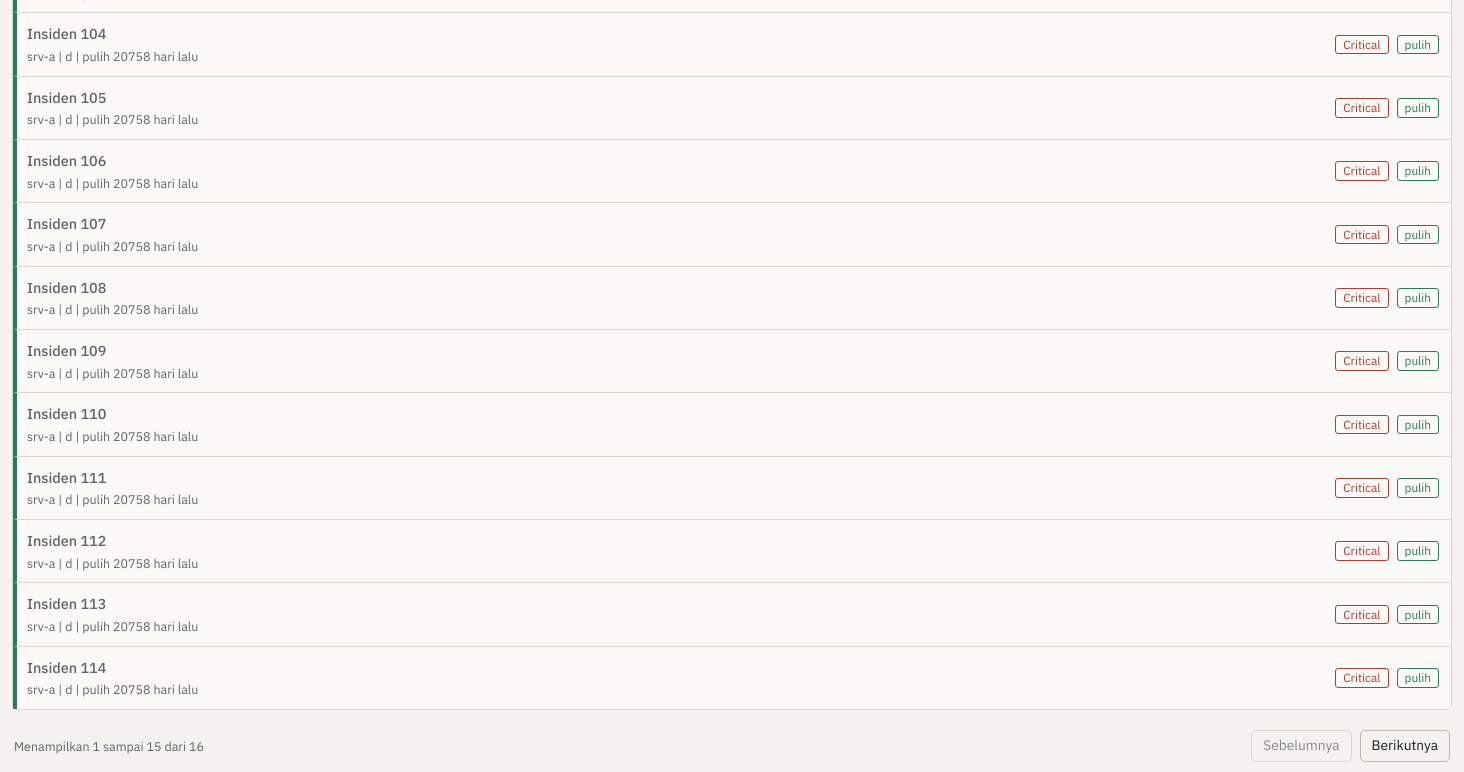
Test case: halaman Insiden › pulih: pencarian dikirim ke server dan halaman berikutnya meminta offset berikutnya
(page scrolled)
Expected: the text "Menampilkan 1 sampai 15 dari 16" is shown, [14, 736, 204, 755]
Expected: the button "Sebelumnya" is disabled, [1251, 730, 1352, 762]
Click the button "Berikutnya": x=1405, y=746 [1360, 730, 1450, 762]
(page scrolled)
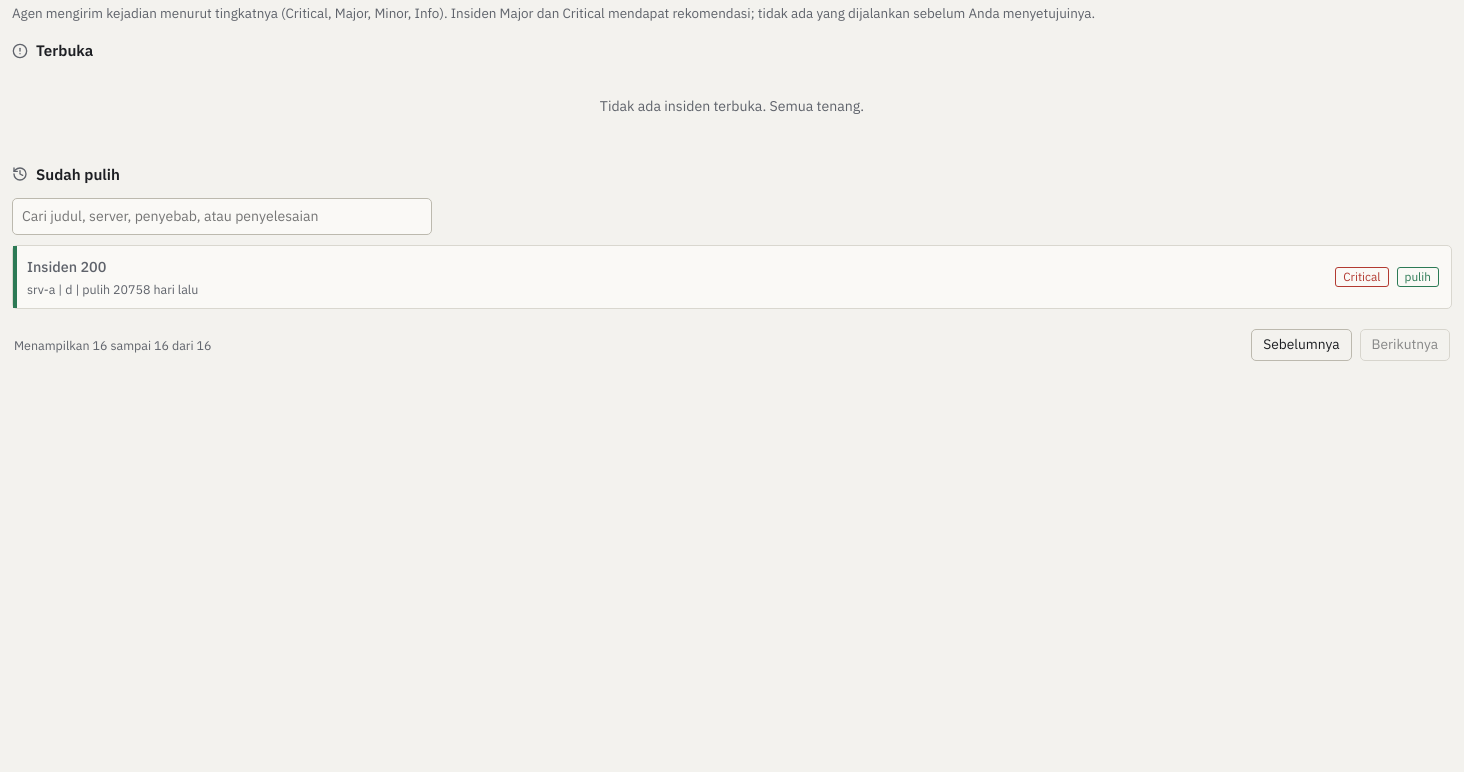
Expected: the text "Menampilkan 16 sampai 16 dari 16" is shown, [14, 336, 211, 355]
Expected: the button "Berikutnya" is disabled, [1360, 329, 1450, 361]
In the search field named "Cari insiden pulih": x=222, y=216 [12, 198, 432, 235], type "kabel"
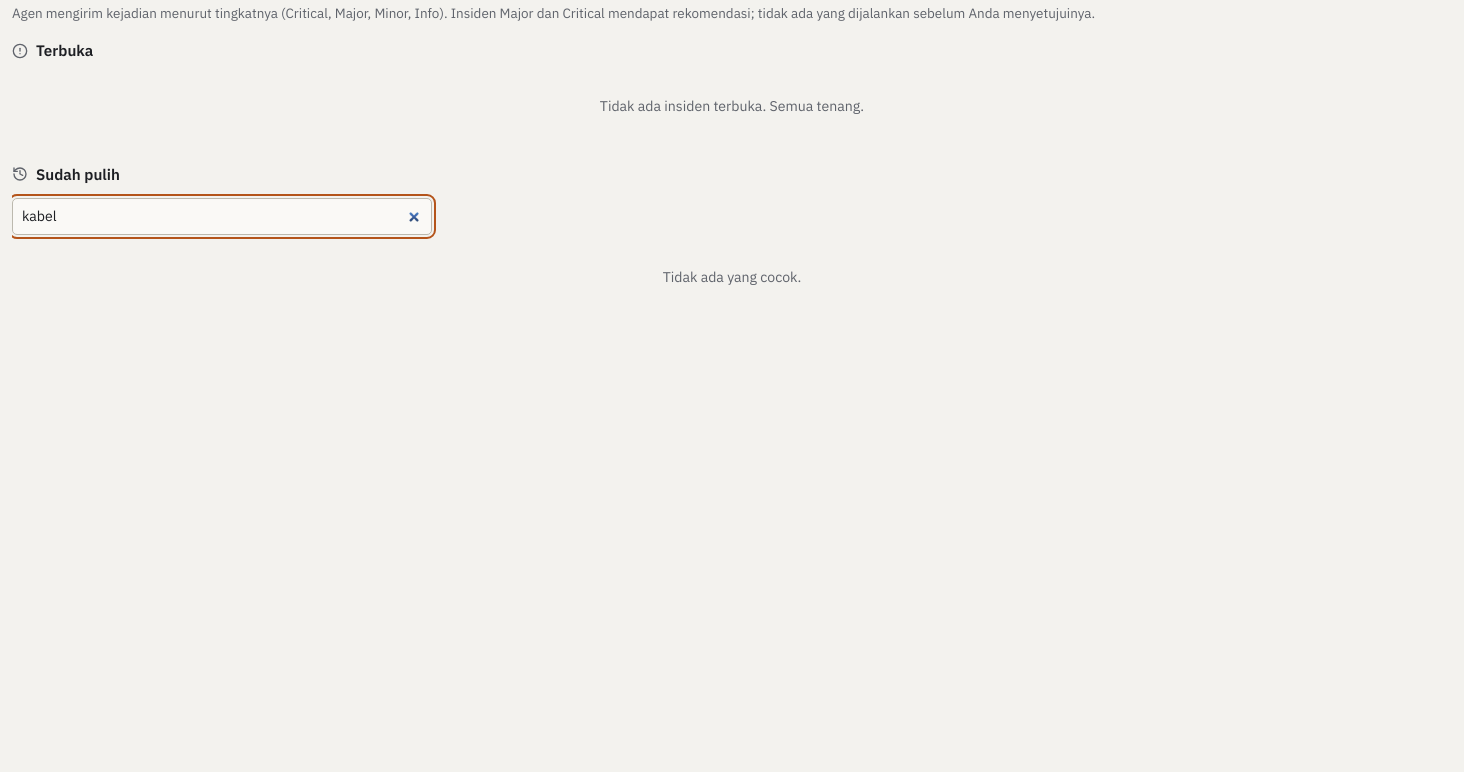
Expected: the text "Tidak ada yang cocok." is shown, [663, 268, 801, 286]
